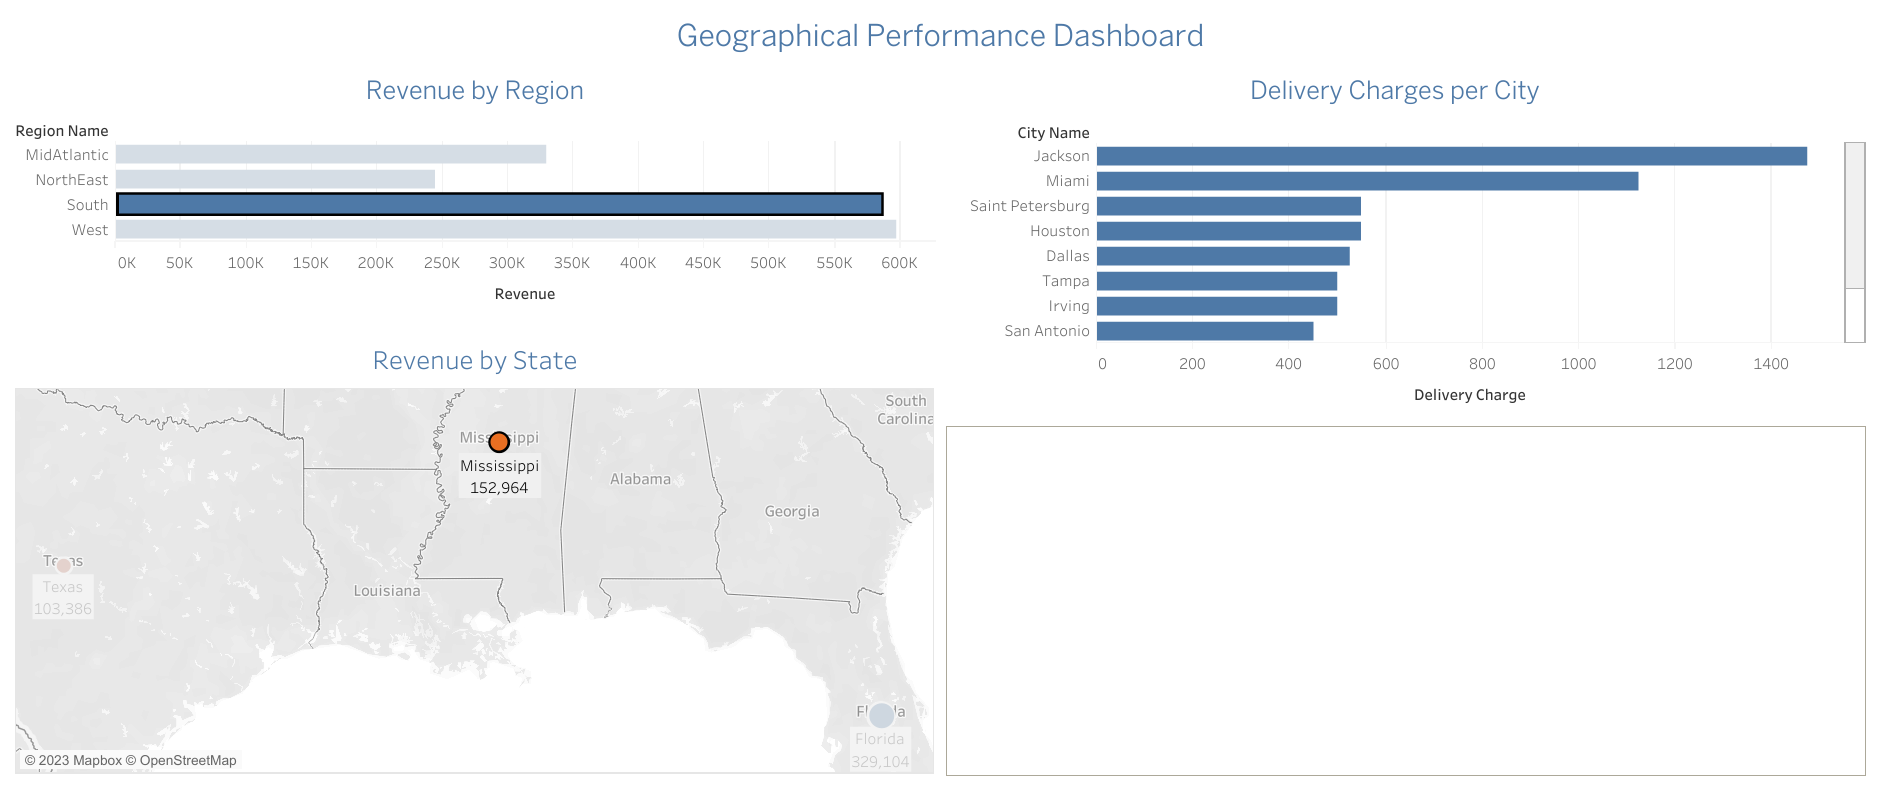

The dashboard page shown, as its layout file describes it:
{"tool":"tableau","page":{"name":"Geographical PerformanceDashboard","canvas":[1000,1000],"units":"permille","ordinal":1},"visuals":[{"type":"title","box":[6.9,13.5,986.2,65.9]},{"type":"worksheet","title":"Revenue by Region","mark":"Automatic","rows":["Region_Name"],"cols":["Calculation_544091152851562498"],"box":[6.9,79.4,493.1,339.5]},{"type":"worksheet","title":"Delivery Charges per City","mark":"Automatic","rows":["City_Name"],"cols":["Delivery_Charge"],"box":[500,79.4,493.1,453.6]},{"type":"worksheet","title":"Revenue by State","mark":"Automatic","box":[6.9,418.9,493.1,567.6]},{"type":"web page","param":"https://en.wikipedia.org/wiki/Mississippi","box":[500,532.9,493.1,453.6]}]}

Visuals, with their boxes on the dashboard's canvas, which has no fixed pixel size, in thousandths of its width and height (x1, y1, x2, y2). These are canvas units, not pixel positions in the 1880x788 screenshot, which may show the page scaled, cropped or inside an application window:
title: (7,14,993,79)
"Revenue by Region" worksheet: (7,79,500,419)
"Delivery Charges per City" worksheet: (500,79,993,533)
"Revenue by State" worksheet: (7,419,500,986)
web page: (500,533,993,986)
